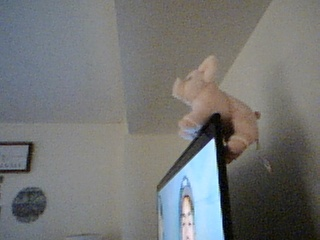piggy: (171, 54, 262, 162)
